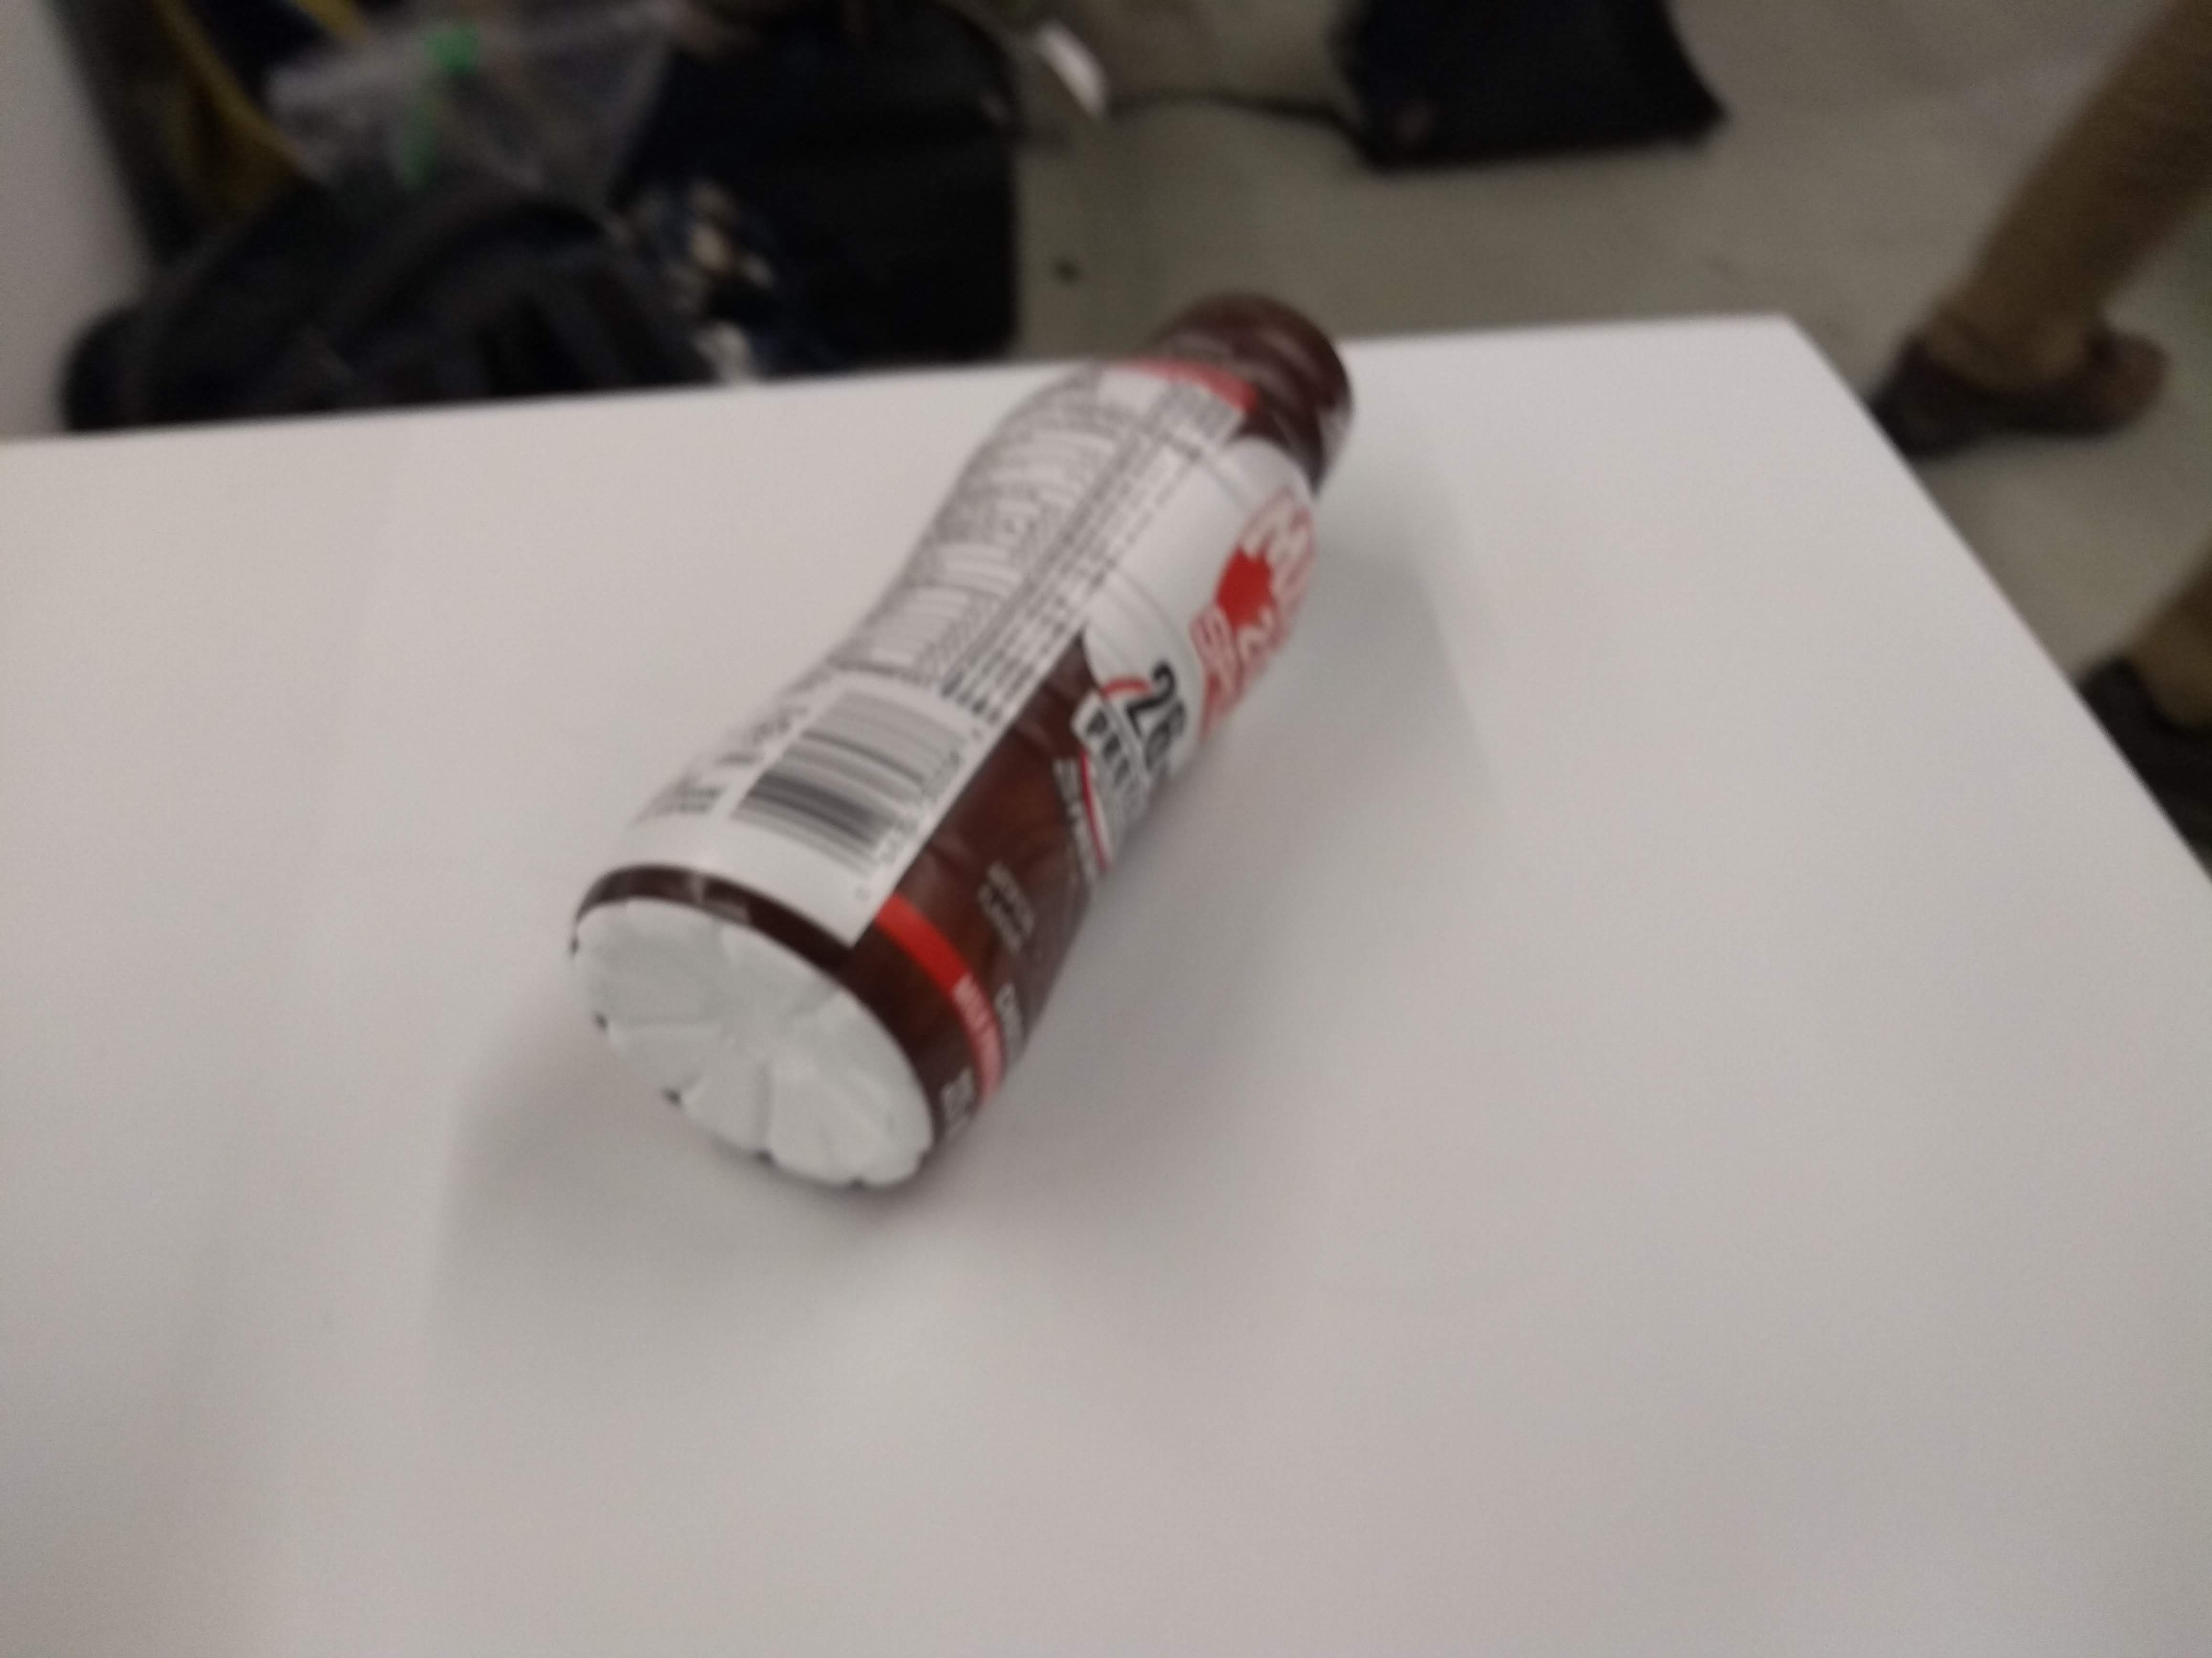chocolate_drink: (542, 270, 1376, 1228)
